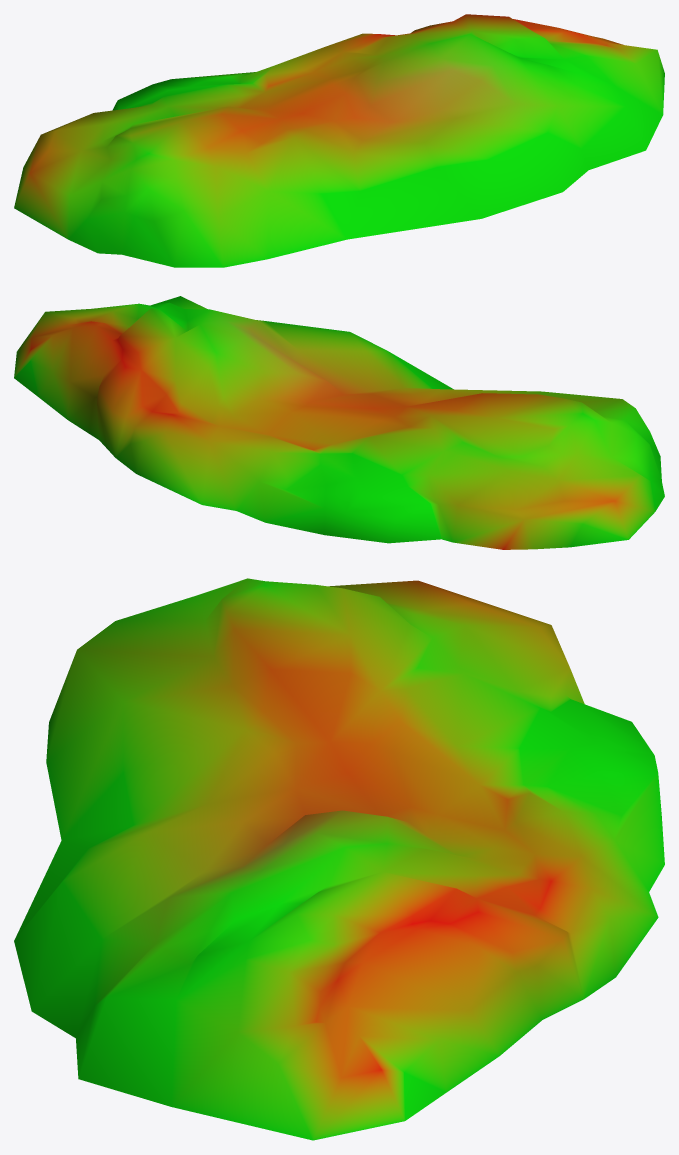
File: SM_Env_Rock_Ground_02.gltf
3 renders of one model, top to bottom at view 1: azimuth 30°, elevation 25°; view 2: azimuth 150°, elevation 25°; view 3: azimuth 270°, elevation 25°, orthographic. The views are drawn at different scales.
Parts seen in each view (by area): view 1: SM_Env_Rock_Ground_02; view 2: SM_Env_Rock_Ground_02; view 3: SM_Env_Rock_Ground_02.
Boxes of the visible parts, x1,y1,x2,y2 form: SM_Env_Rock_Ground_02: [14, 14, 664, 267]; SM_Env_Rock_Ground_02: [14, 296, 664, 549]; SM_Env_Rock_Ground_02: [14, 578, 664, 1140].
Bounding box in the file's own units: 12.02 × 1.78 × 6.27.
